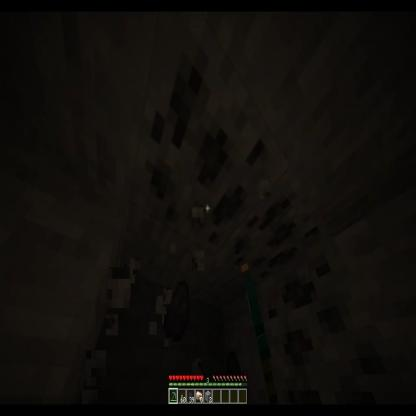coal ore: (121, 26, 277, 254)
